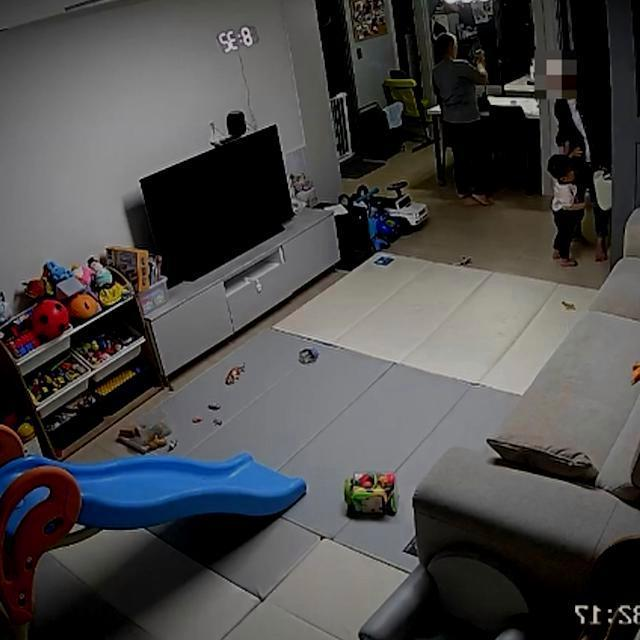child: (547, 144, 592, 267)
